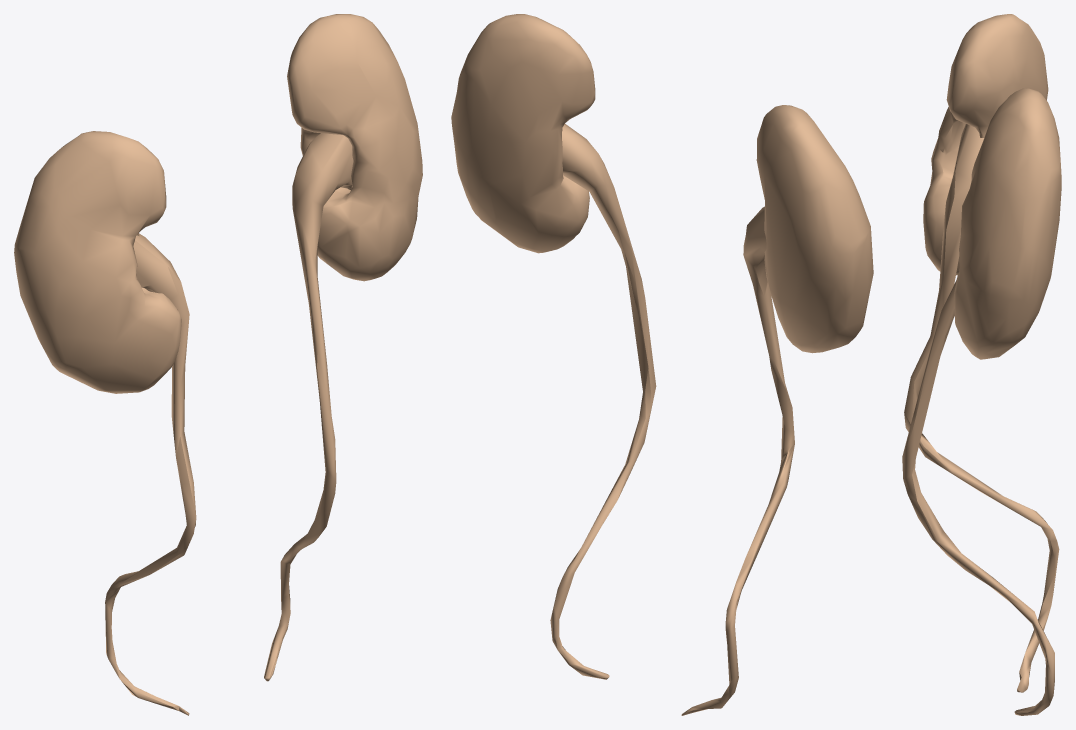
The model's file is urinaire-abdomen.lo.glb.
3 renders of one model, left to right at view 1: azimuth 30°, elevation 25°; view 2: azimuth 150°, elevation 25°; view 3: azimuth 270°, elevation 25°, orthographic. The views are drawn at different scales.
Parts seen in each view (by area): view 1: FJ3147, FJ3145, FJ3144, FJ3146; view 2: FJ3145, FJ3147, FJ3144, FJ3146; view 3: FJ3145, FJ3147, FJ3146, FJ3144.
Part boxes in pixels (x1=…): FJ3147: x1=14, y1=131, x2=181, y2=393; FJ3145: x1=287, y1=14, x2=422, y2=281; FJ3144: x1=264, y1=133, x2=353, y2=681; FJ3146: x1=105, y1=233, x2=196, y2=715; FJ3145: x1=451, y1=14, x2=595, y2=253; FJ3147: x1=756, y1=105, x2=873, y2=353; FJ3144: x1=550, y1=124, x2=656, y2=679; FJ3146: x1=681, y1=206, x2=794, y2=715; FJ3145: x1=954, y1=88, x2=1061, y2=359; FJ3147: x1=923, y1=14, x2=1048, y2=275; FJ3146: x1=904, y1=124, x2=1059, y2=692; FJ3144: x1=902, y1=280, x2=1054, y2=715.
Bounding box in the file's own units: 0.178 × 0.2788 × 0.0599.
